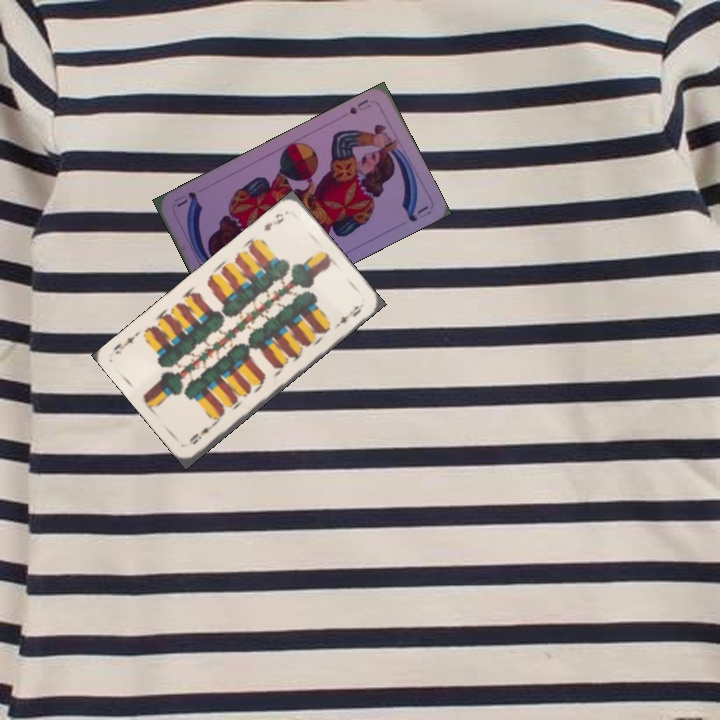E9: (185, 418, 219, 447), (259, 209, 287, 234)
SU: (345, 95, 374, 117)
